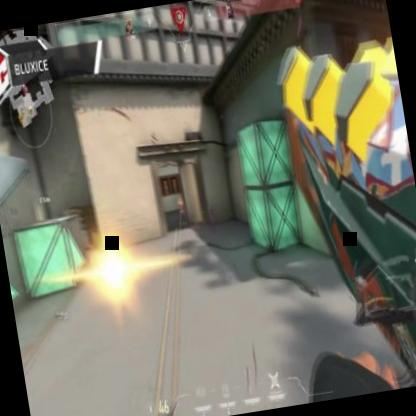enemy: (177, 198, 186, 228)
enemy_head: (178, 198, 182, 204)
